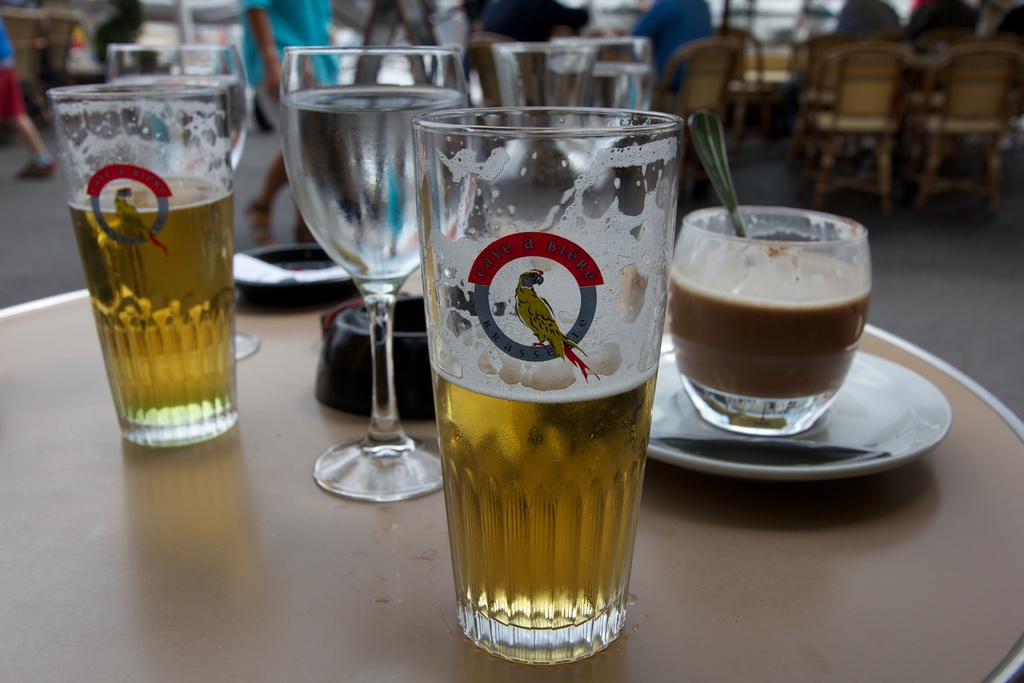Beer: (435, 368, 656, 634), (67, 169, 230, 440)
